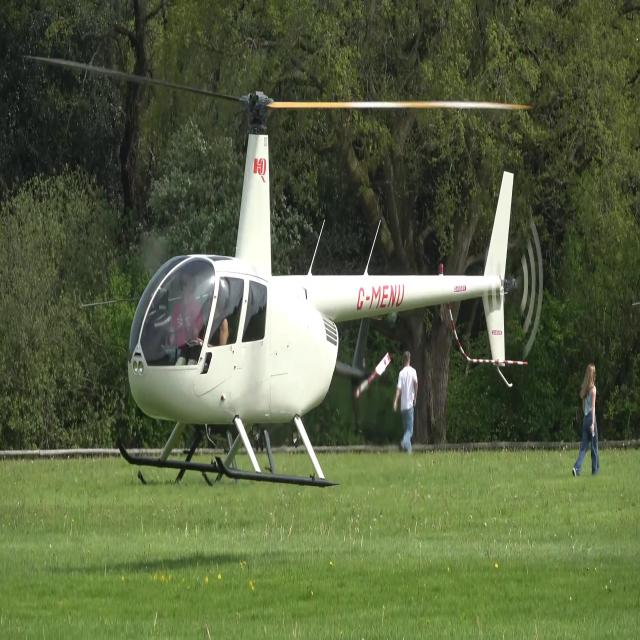CIV_HELO: (116, 87, 515, 493)
